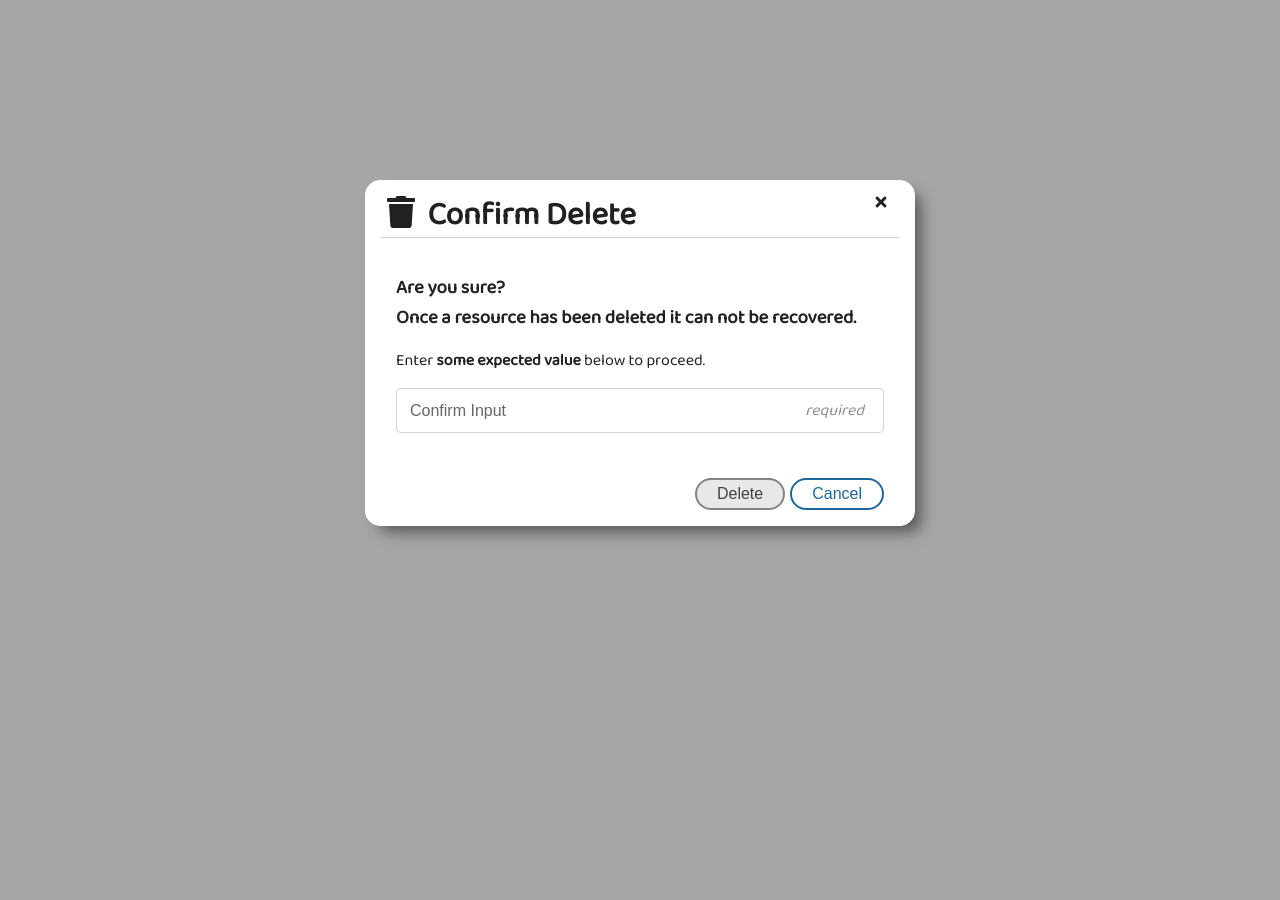
Scenario: <DeleteModal /> › should render an InputBox section if the expectedInput is a string
The image size is (1280, 900).
Expected: the element with test id "unitTestDeleteModal.stringInputSection" is shown, [396,348,884,433]
Expect the default label / placeholder if one is not provided.
Focus the field with test id "confirmStringInput.input": coordinates (640, 410) [396,388,884,433]
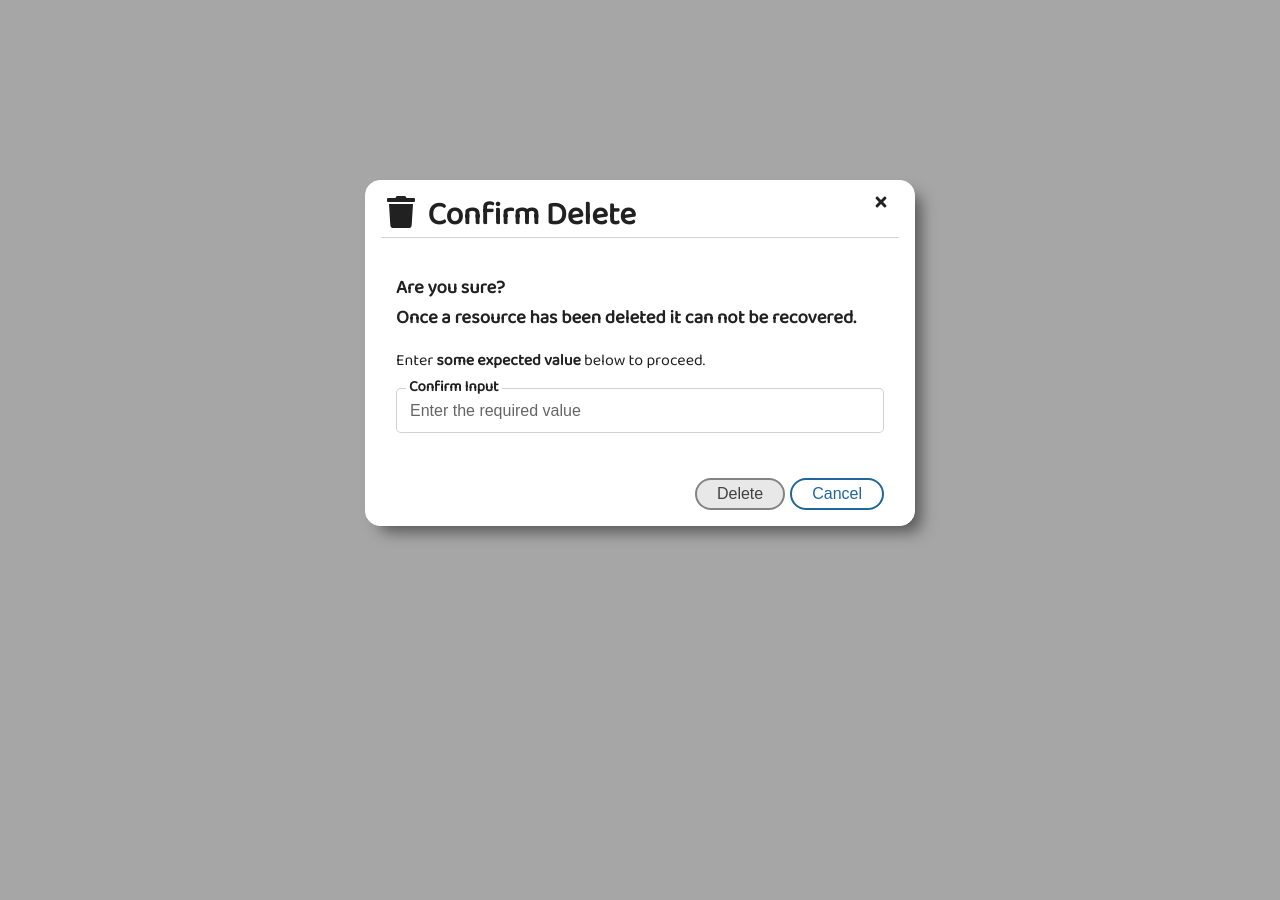
Now the field with placeholder "Enter the required value" is shown, box [396,388,884,433]
